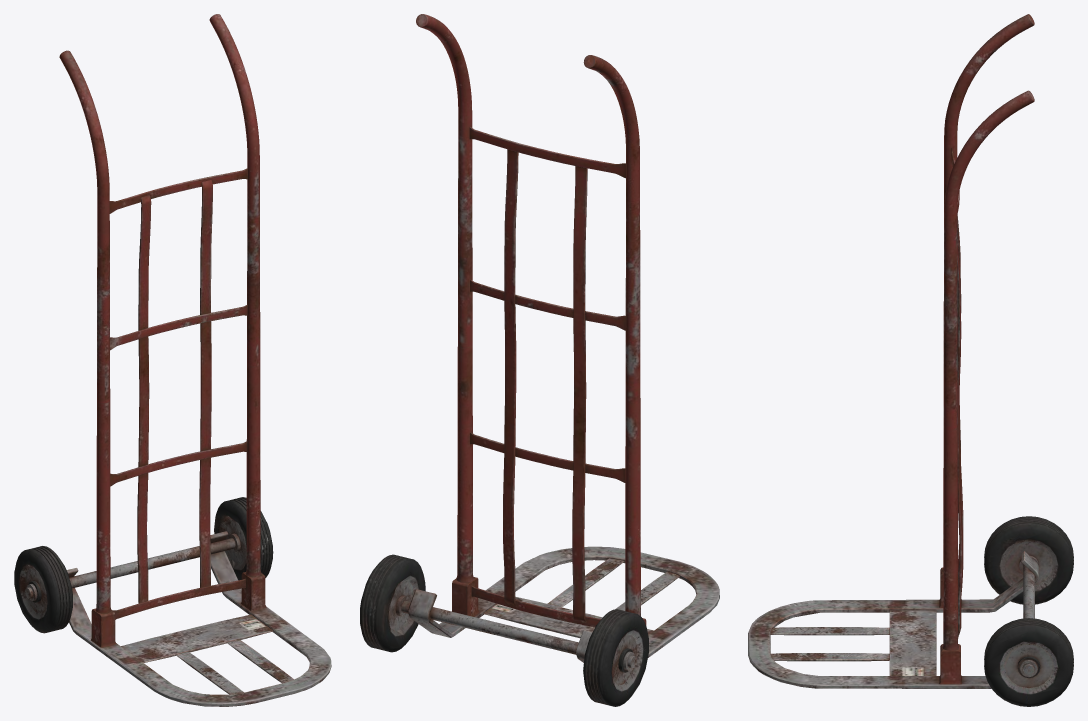
Rendered from hand_truck.glb.
3 views of the same model, side by side, from view 1: azimuth 30°, elevation 25°; view 2: azimuth 150°, elevation 25°; view 3: azimuth 270°, elevation 25° (orthographic). The views are drawn at different scales.
Size of the model in its own units: 0.5933 by 1.4 by 0.6922.
Materials: 1 (1 with a texture image).
